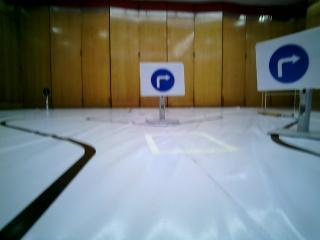right: (252, 40, 319, 89), (139, 60, 182, 94)
